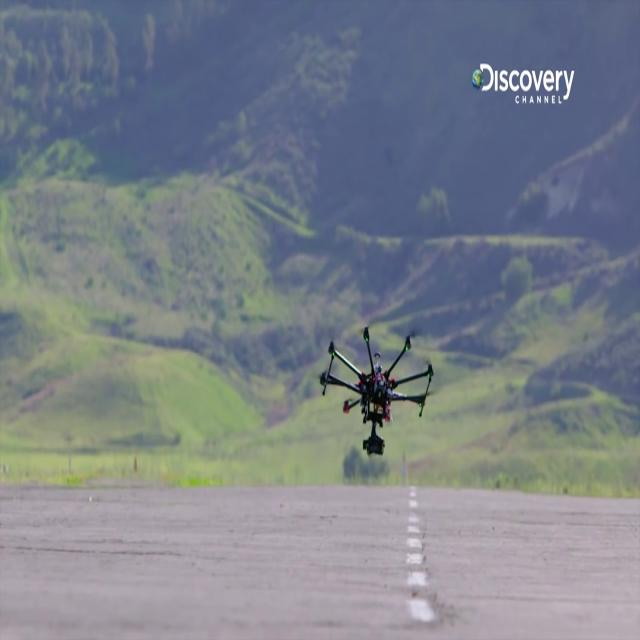drone: (321, 315, 436, 472)
